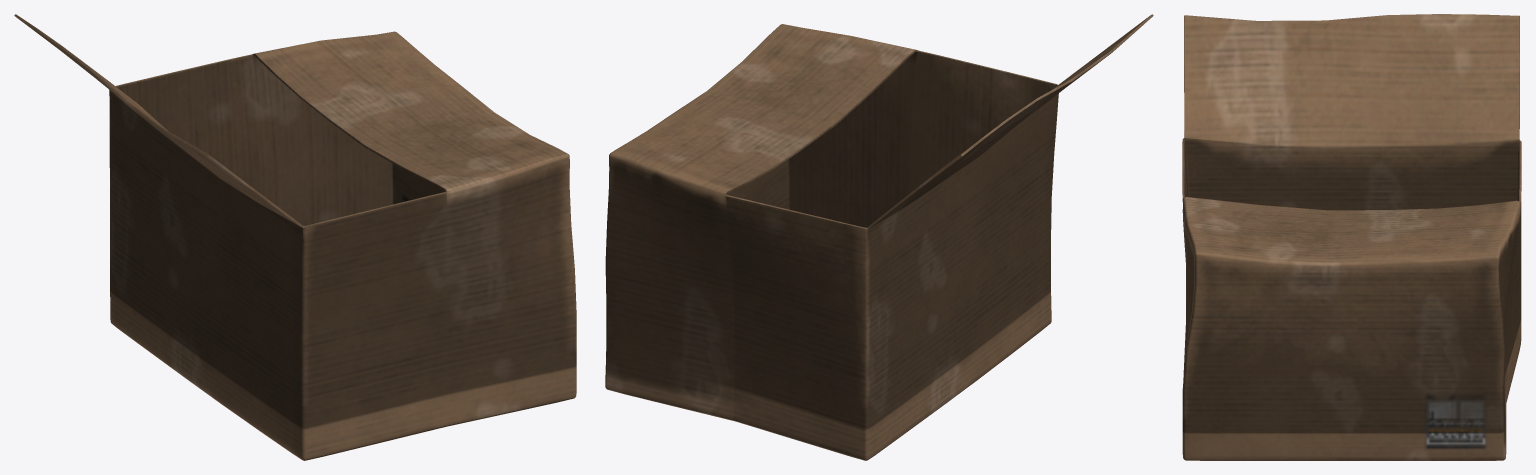
The model's file is cardboardbox3.glb.
3 renders of one model, left to right at view 1: azimuth 30°, elevation 25°; view 2: azimuth 150°, elevation 25°; view 3: azimuth 270°, elevation 25°, orthographic. The views are drawn at different scales.
Visible parts, largest first — view 1: cardboard box 3; view 2: cardboard box 3; view 3: cardboard box 3.
Part boxes in pixels (box(x1,y1,x2,y2)): cardboard box 3: box(14, 14, 576, 460); cardboard box 3: box(605, 14, 1153, 460); cardboard box 3: box(1182, 14, 1521, 460).
Size of the model in its own units: 67.97 by 58.91 by 62.
Materials: 1 (1 with a texture image).
